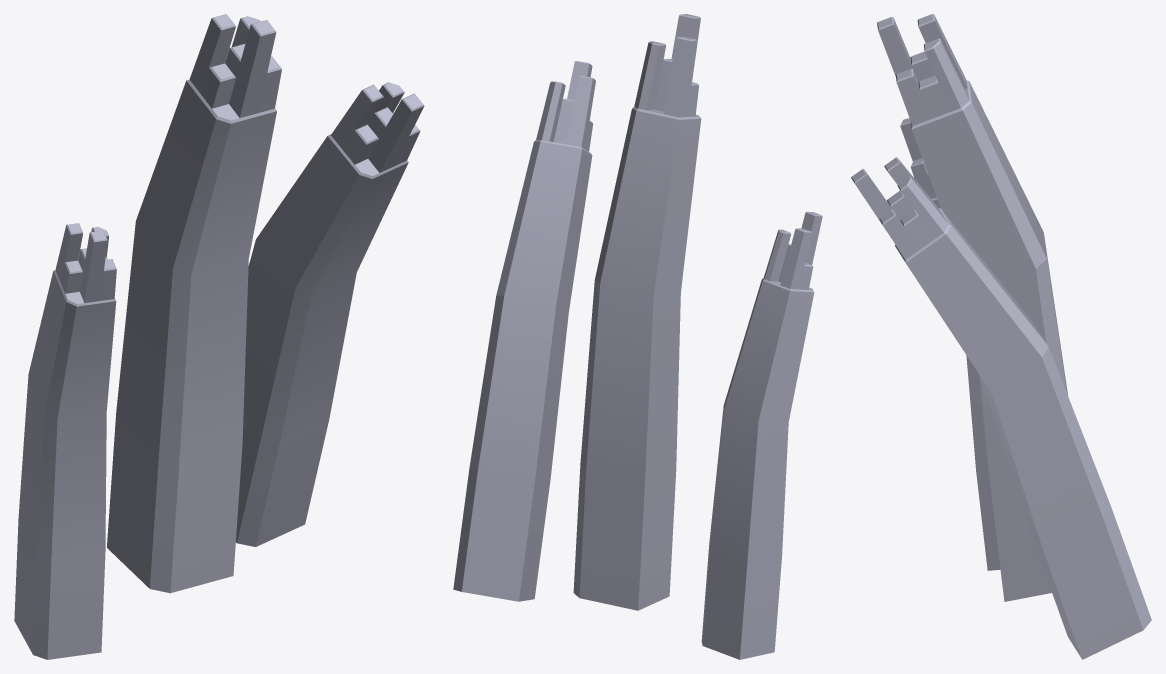
File: Pillars_2.fbx
The picture shows the model from 3 angles, left to right: view 1: azimuth 30°, elevation 25°; view 2: azimuth 150°, elevation 25°; view 3: azimuth 270°, elevation 25°; orthographic projection. The views are drawn at different scales.
Visible parts, largest first — view 1: Pillars_2; view 2: Pillars_2; view 3: Pillars_2.
Boxes of the visible parts, bbox=[...] form: Pillars_2: bbox=[14, 14, 424, 659]; Pillars_2: bbox=[453, 14, 822, 659]; Pillars_2: bbox=[851, 14, 1151, 659].
Bounding box in the file's own units: 61.3 × 116 × 52.54.
